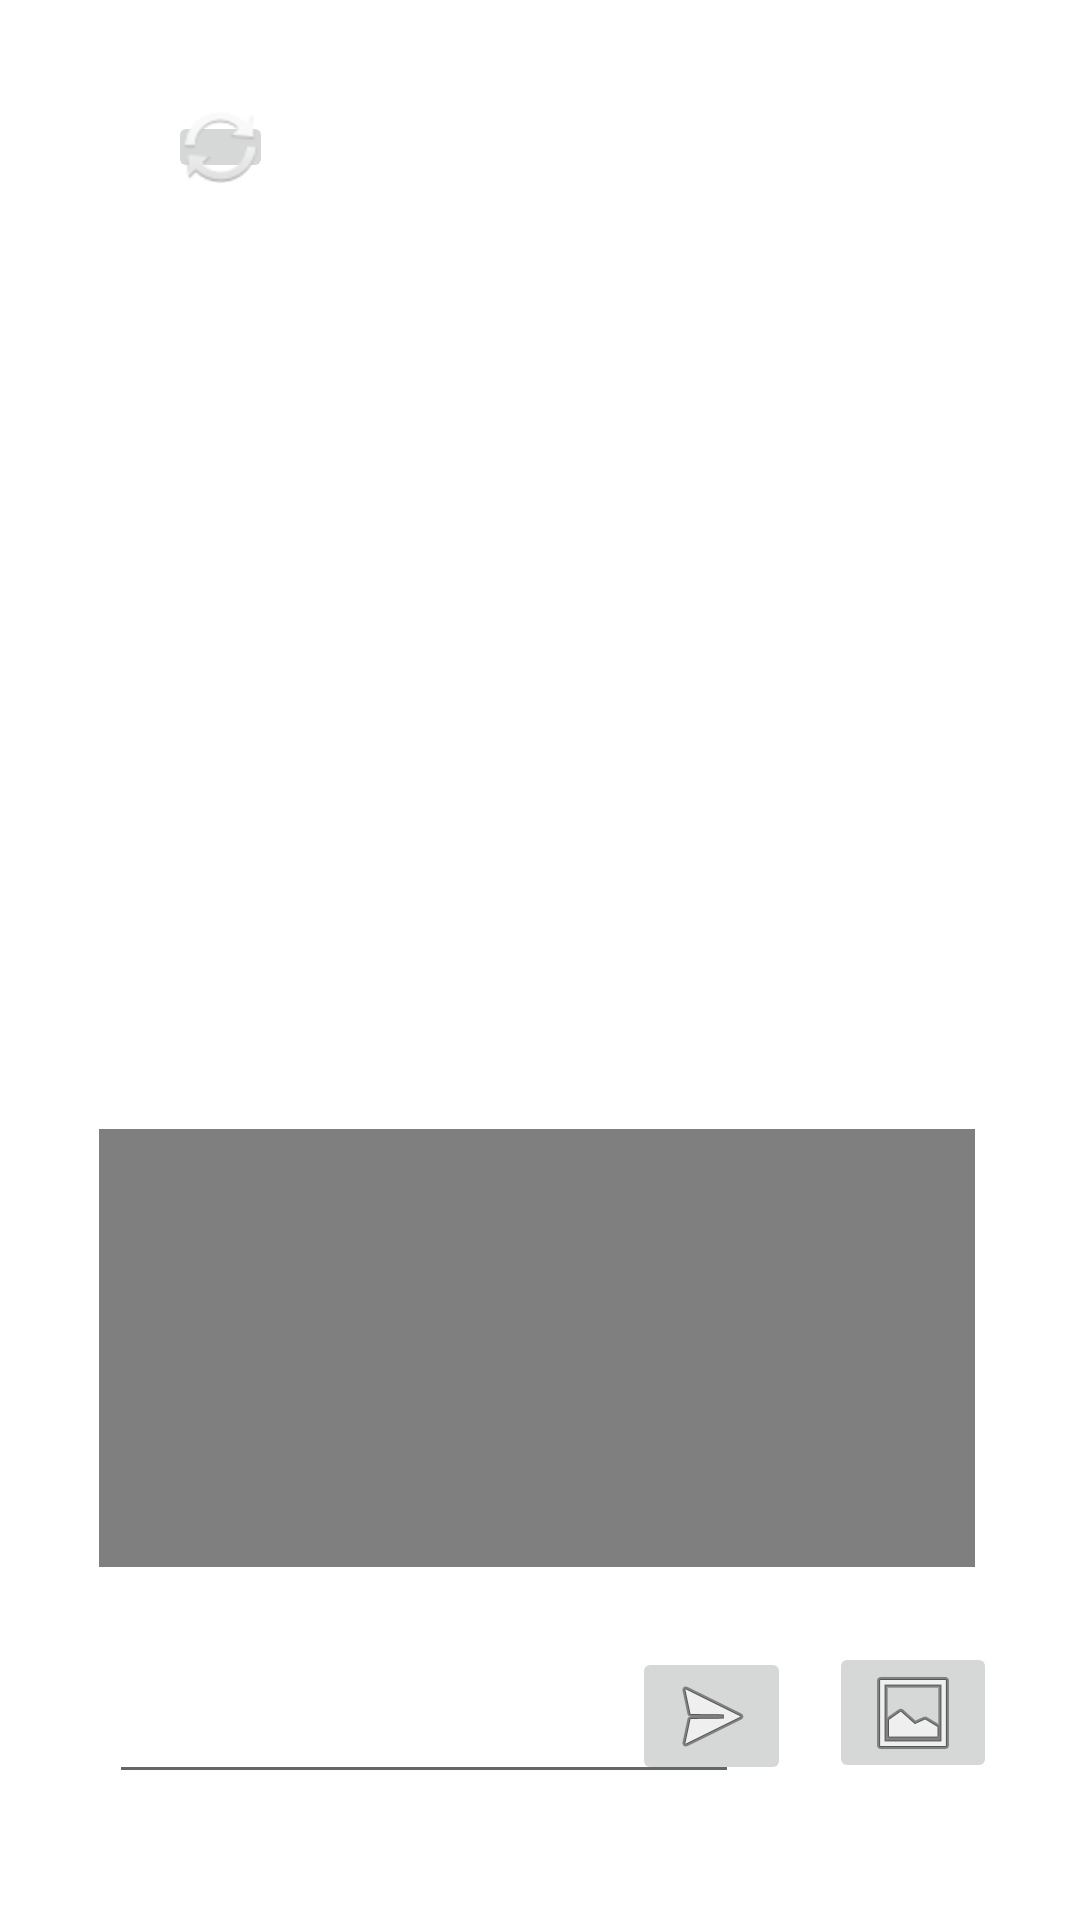

Screen size 1080w x 1920h. Icon name, then its center in pixels as [x,y]:
gallery: [913,1712]
popup sync: [220,151]
send: [705,1717]
